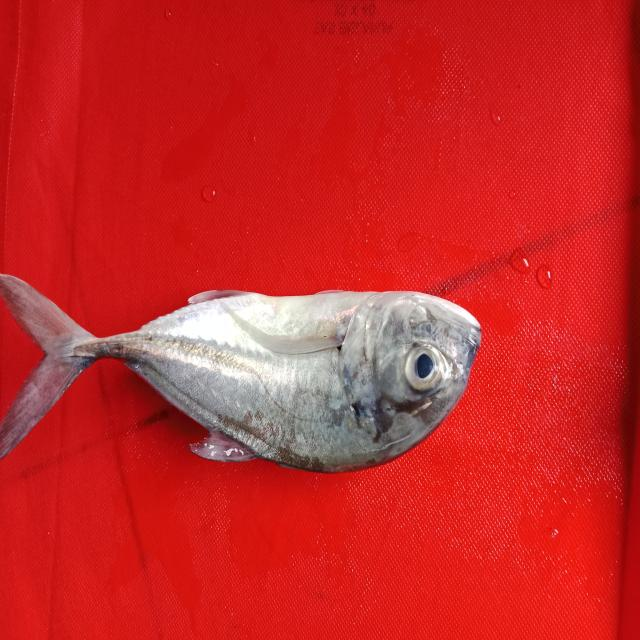ikan: (6, 249, 489, 502)
